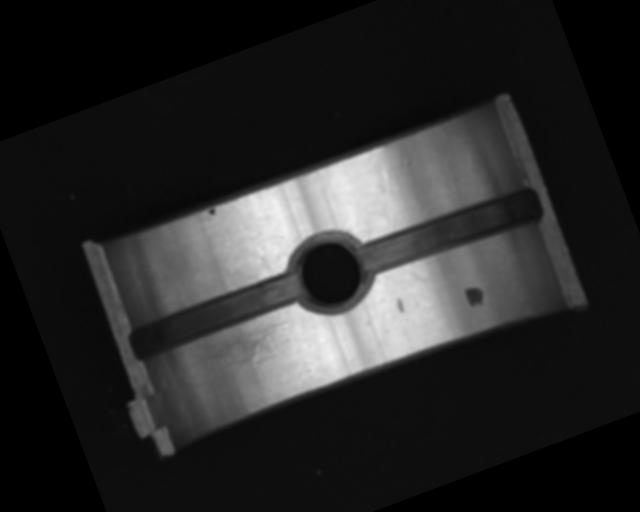blot: (462, 283, 487, 310), (203, 206, 218, 221)
bruise: (395, 296, 407, 314)
gap: (353, 182, 546, 288), (125, 268, 304, 359)
hole: (279, 222, 376, 323)
nick: (372, 169, 407, 230)
scratch: (181, 313, 302, 382)
